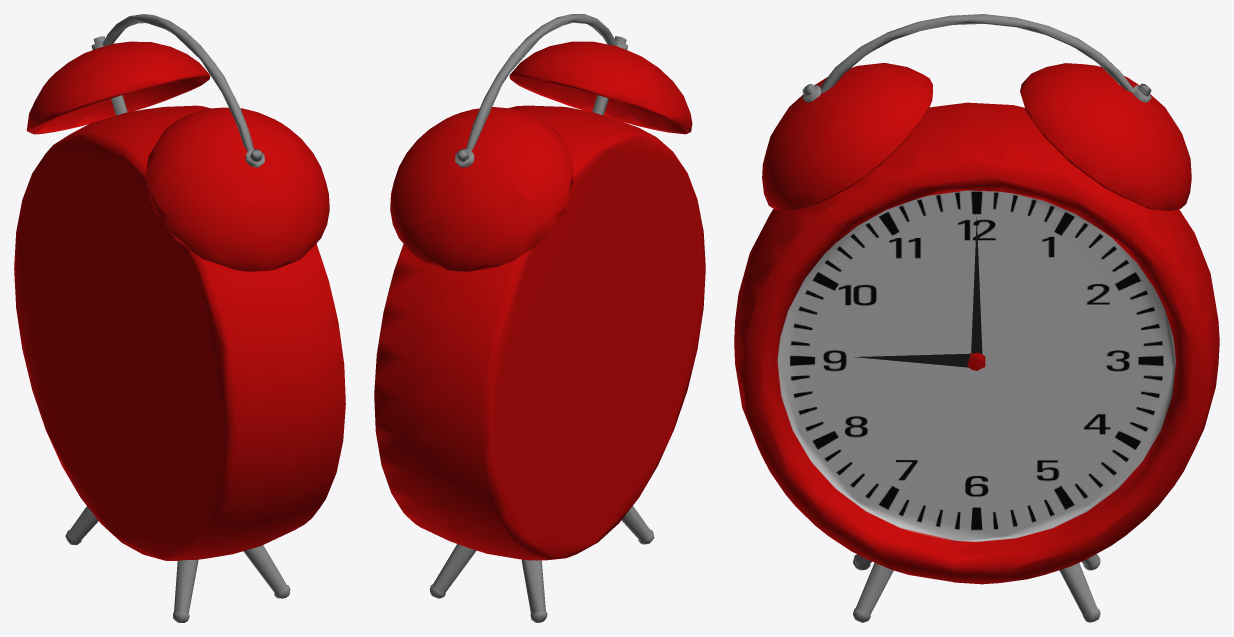
Rendered from alarm_clock_fbx_LOD3.fbx.
3 views of the same model, side by side, from view 1: azimuth 30°, elevation 25°; view 2: azimuth 150°, elevation 25°; view 3: azimuth 270°, elevation 25° (orthographic). The views are drawn at different scales.
Visible parts, largest first — view 1: alarm_clock; view 2: alarm_clock; view 3: alarm_clock.
Part boxes in pixels (box(x1,y1,x2,y2)): alarm_clock: box(14, 14, 345, 622); alarm_clock: box(374, 14, 705, 622); alarm_clock: box(734, 14, 1219, 622).
Size of the model in its own units: 191 by 600 by 455.
Materials: 2 (2 with a texture image).
